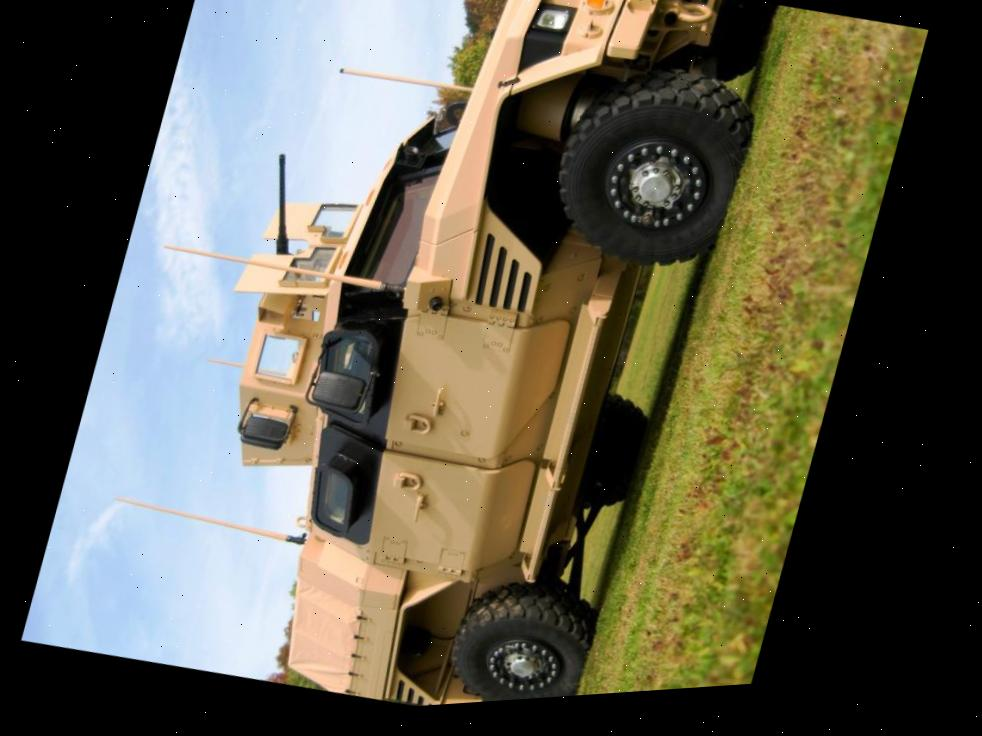armored_car: (129, 0, 788, 725)
